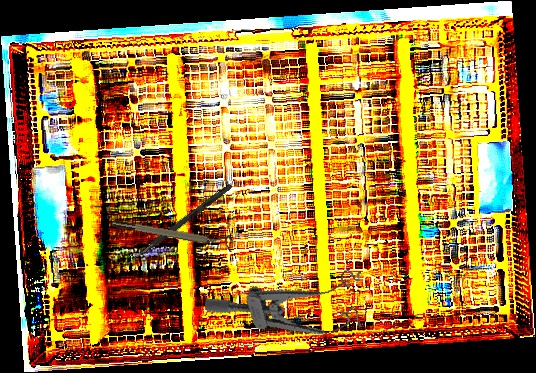Fixation Ring: (111, 212, 235, 253)
Hook Surgical: (118, 181, 233, 274)
Speculum: (203, 256, 376, 367)
